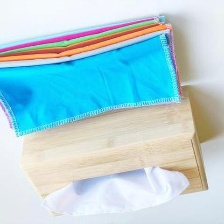tissue: (34, 160, 196, 224)
